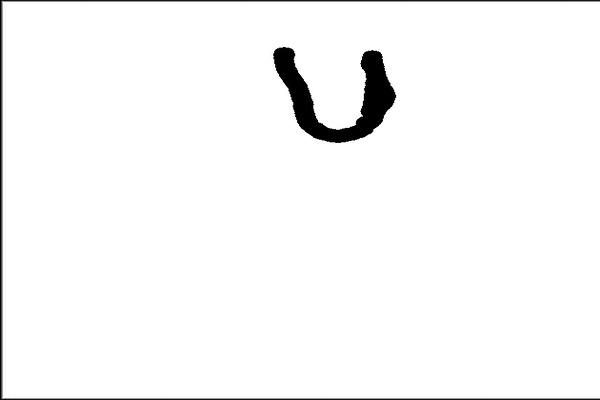U: (262, 38, 401, 146)
